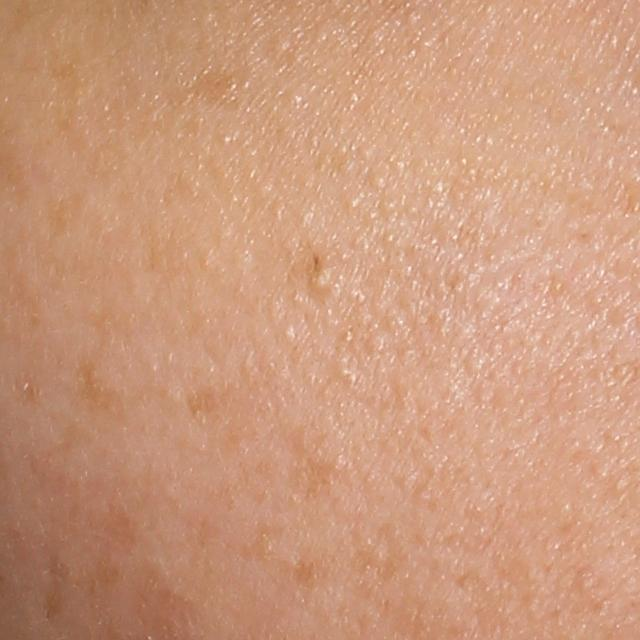comedo: (303, 268, 343, 301), (335, 363, 354, 382)
melasma: (45, 45, 93, 158), (180, 67, 250, 112), (173, 378, 235, 428), (70, 356, 123, 414), (43, 558, 76, 619)
